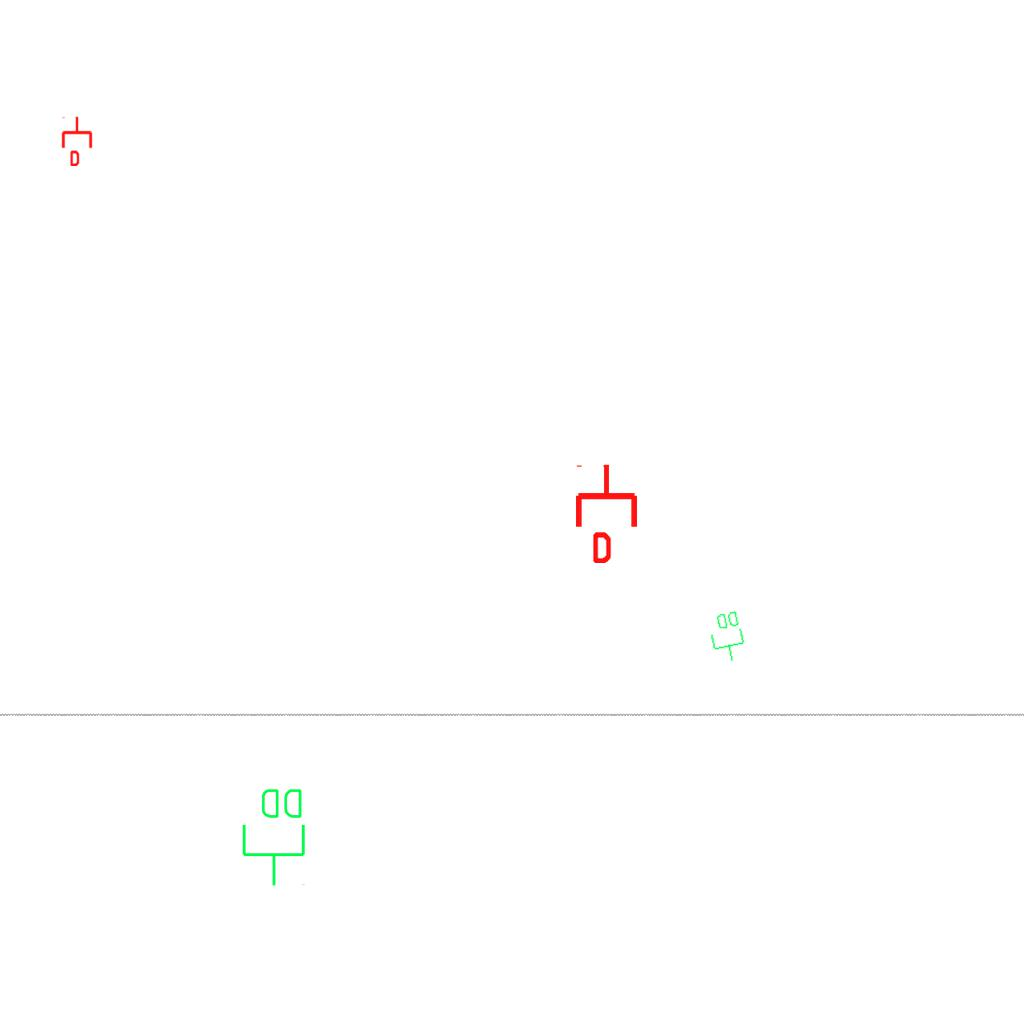Datenanschluss_einfach: (572, 463, 641, 563), (60, 116, 94, 166)
Datenanschluss_zweifach: (240, 785, 309, 888), (705, 608, 750, 666)
